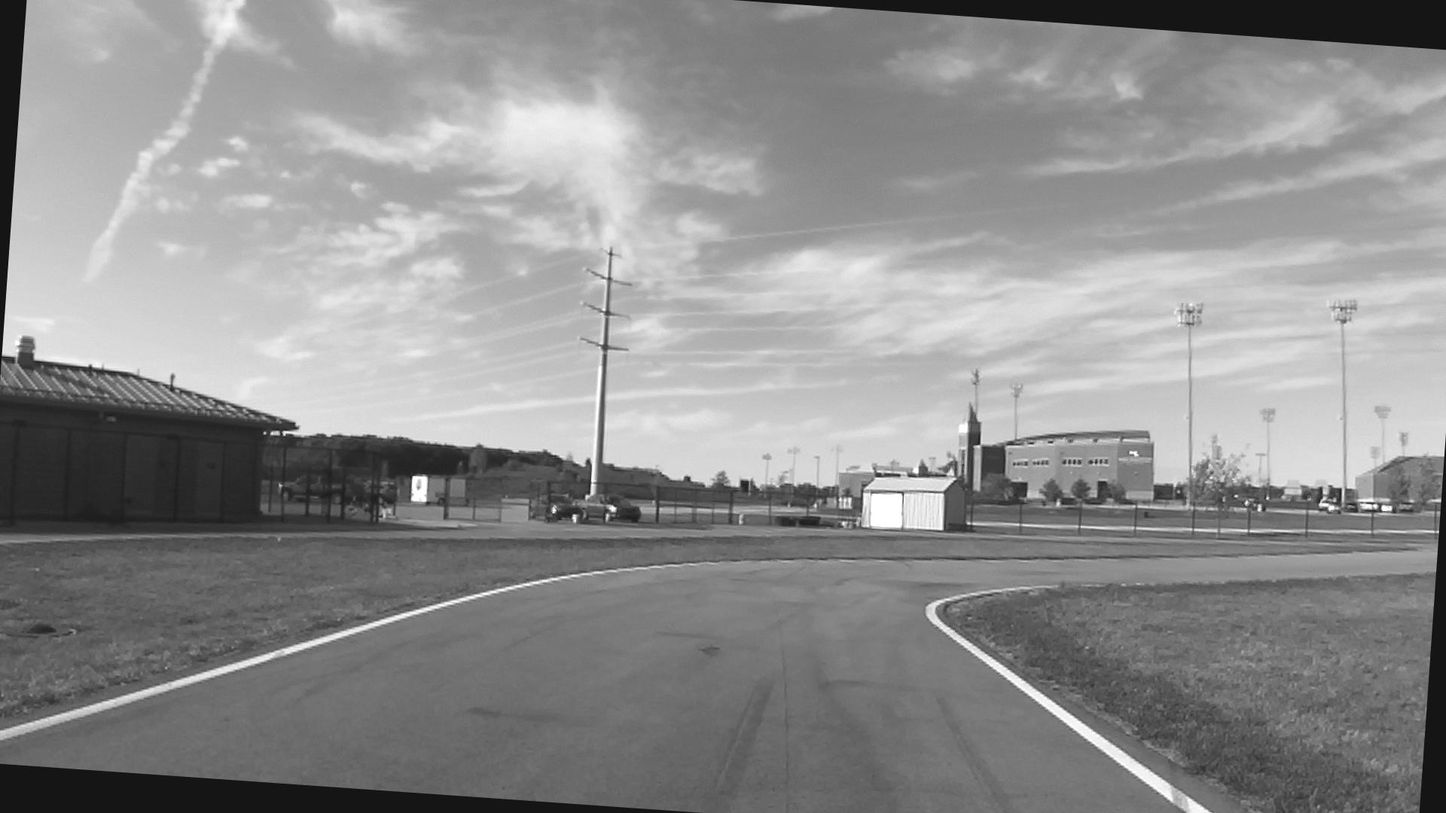white-line: (0, 559, 805, 741), (926, 584, 1215, 813)
